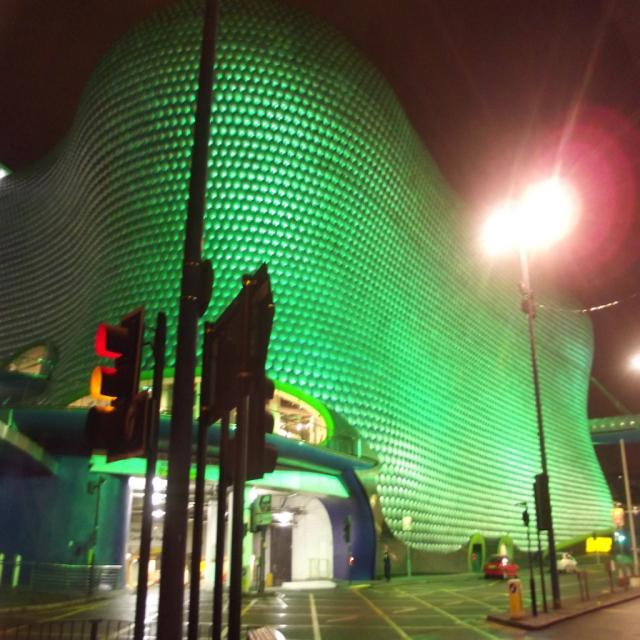off traffic light: (245, 370, 278, 480)
traffic light: (84, 304, 146, 466)
